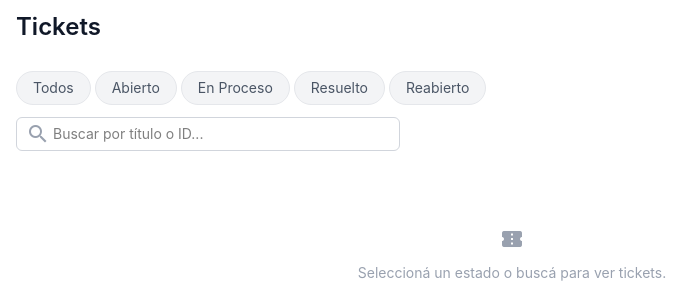
Test case: TicketListPage › tab interaction › renders ticket cards when fetch returns tickets
The image size is (682, 298).
Click the tab "Abierto". click: [136, 88]
box: [95,71,177,105]
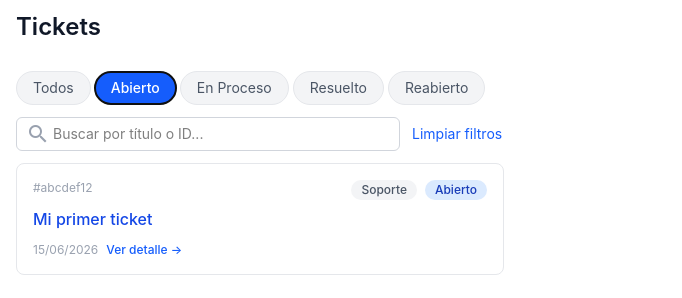
Result: the text "Mi primer ticket" is shown at [33,209,152,229]
